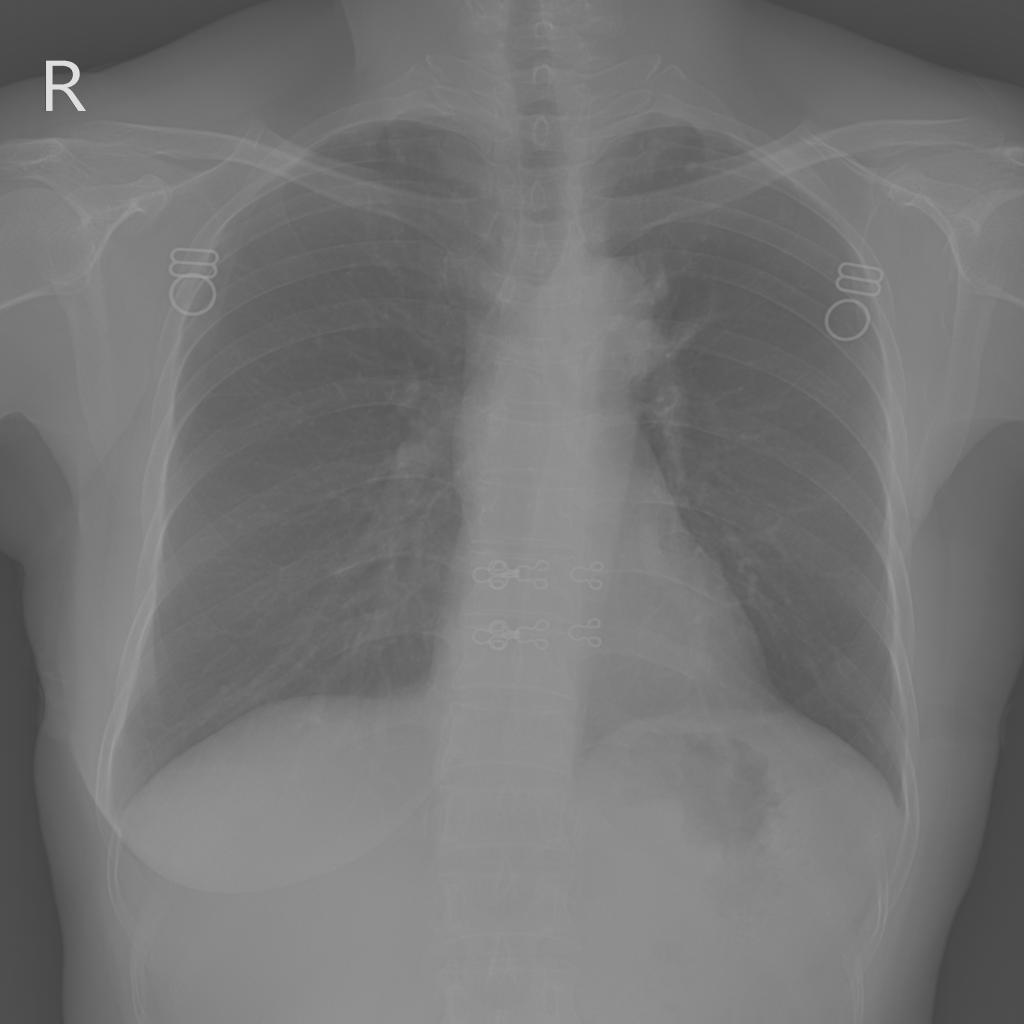Nodule: (781, 194, 800, 231)
